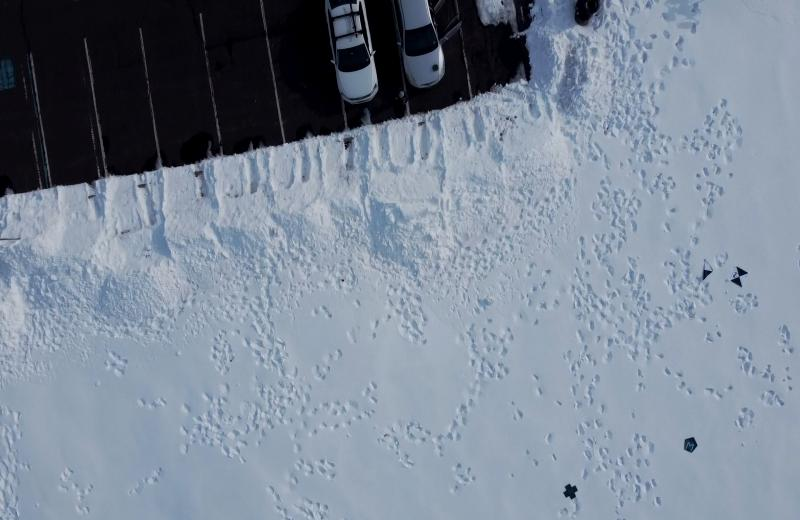Cross: (562, 482, 581, 502)
Pentagon: (682, 435, 698, 454)
